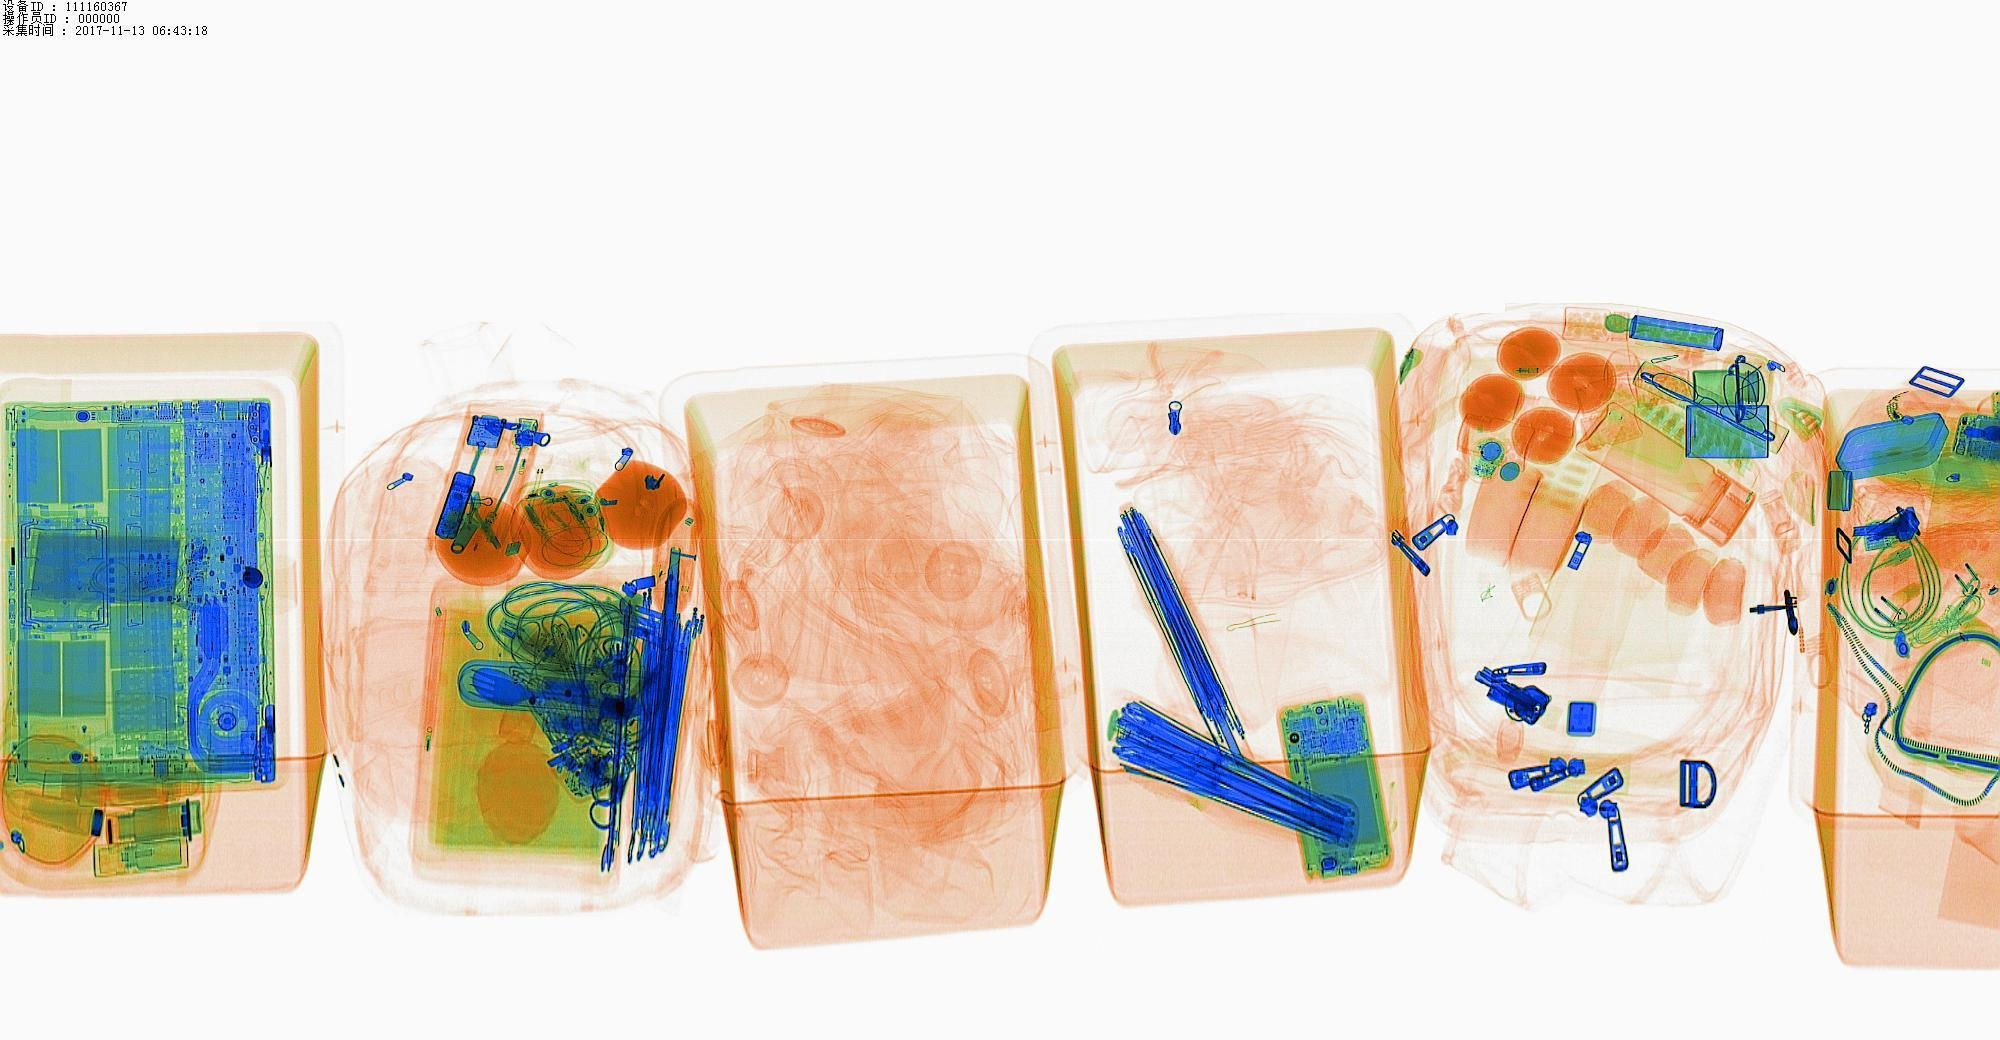coreless: (30, 531, 198, 607)
